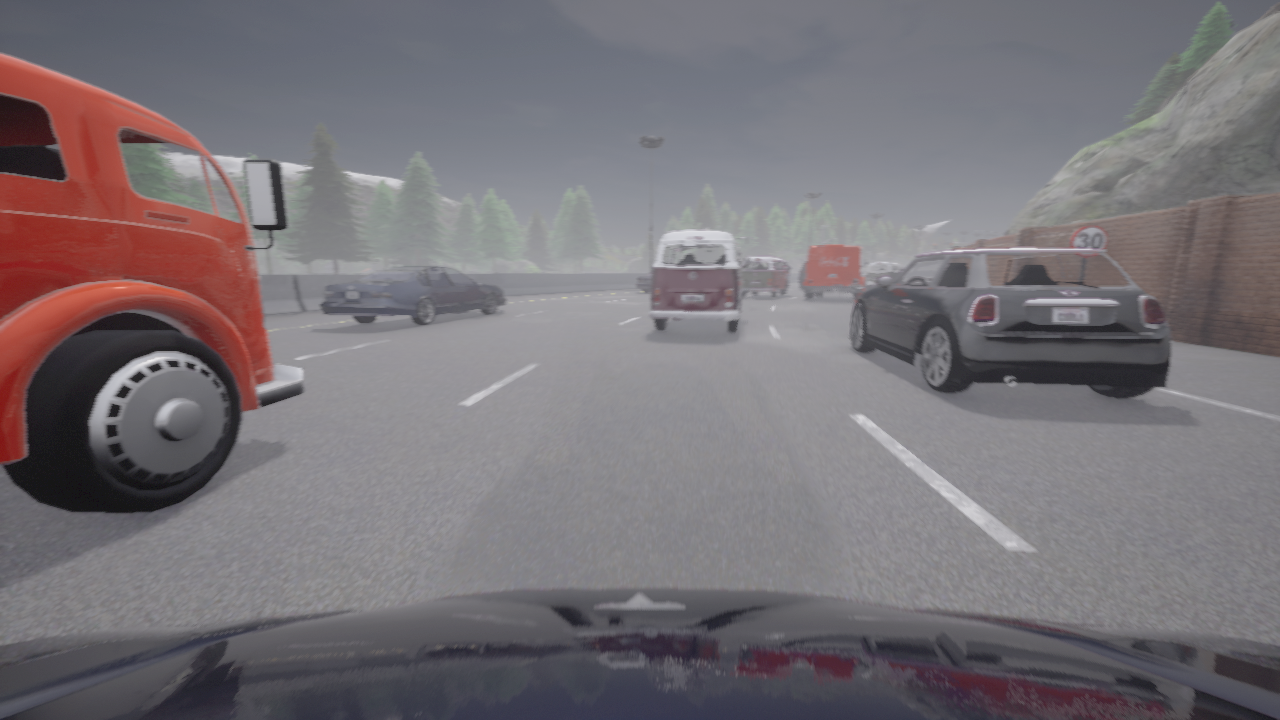cyclist: (0, 588, 1279, 719), (850, 248, 1171, 398), (319, 265, 505, 325), (649, 230, 749, 332), (803, 245, 866, 299), (741, 256, 790, 297), (865, 262, 904, 288), (637, 272, 652, 292), (799, 262, 807, 289)
